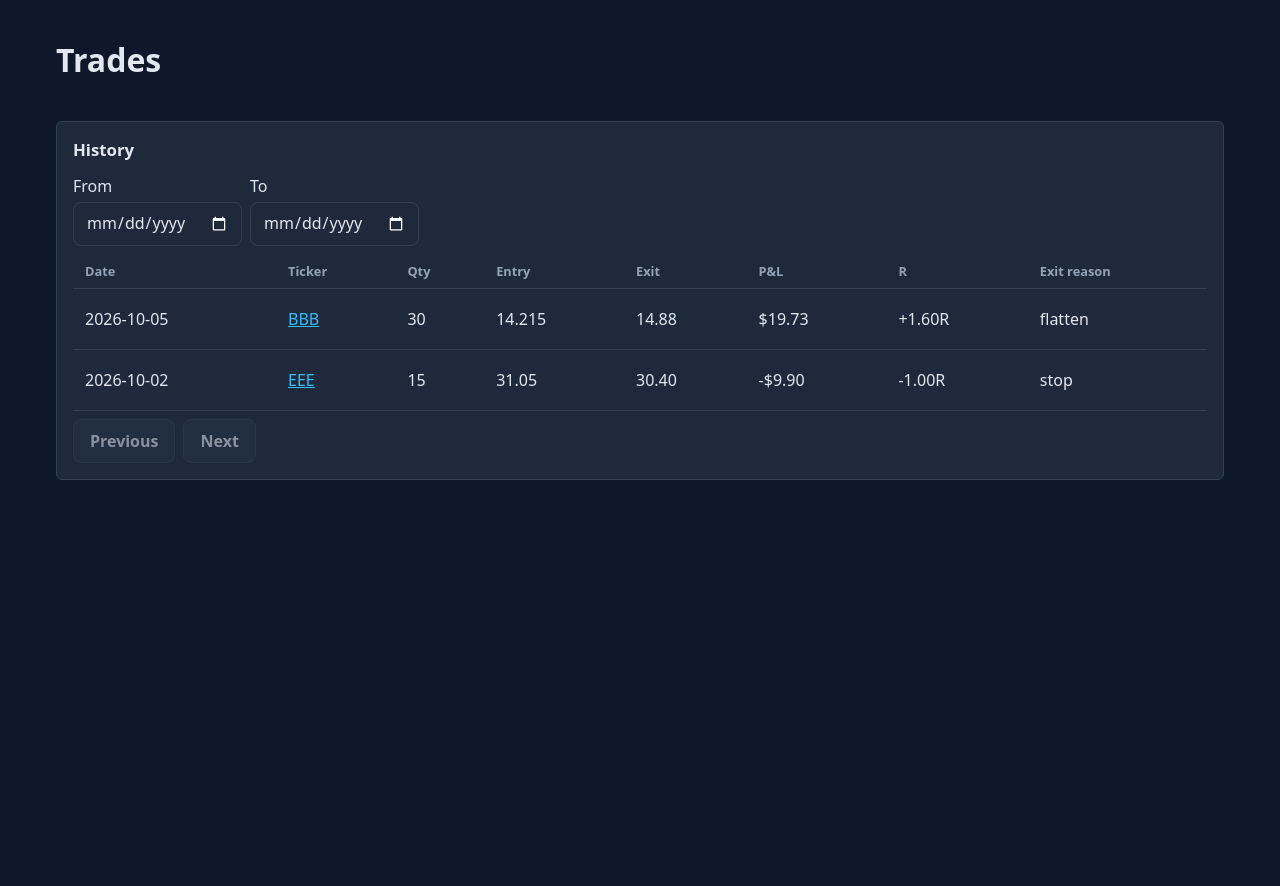
Test: Trades list › opening a row sets ?position=<id> and shows the detail
Click the link "BBB": point(304, 319) x1=288 y1=308 x2=319 y2=330
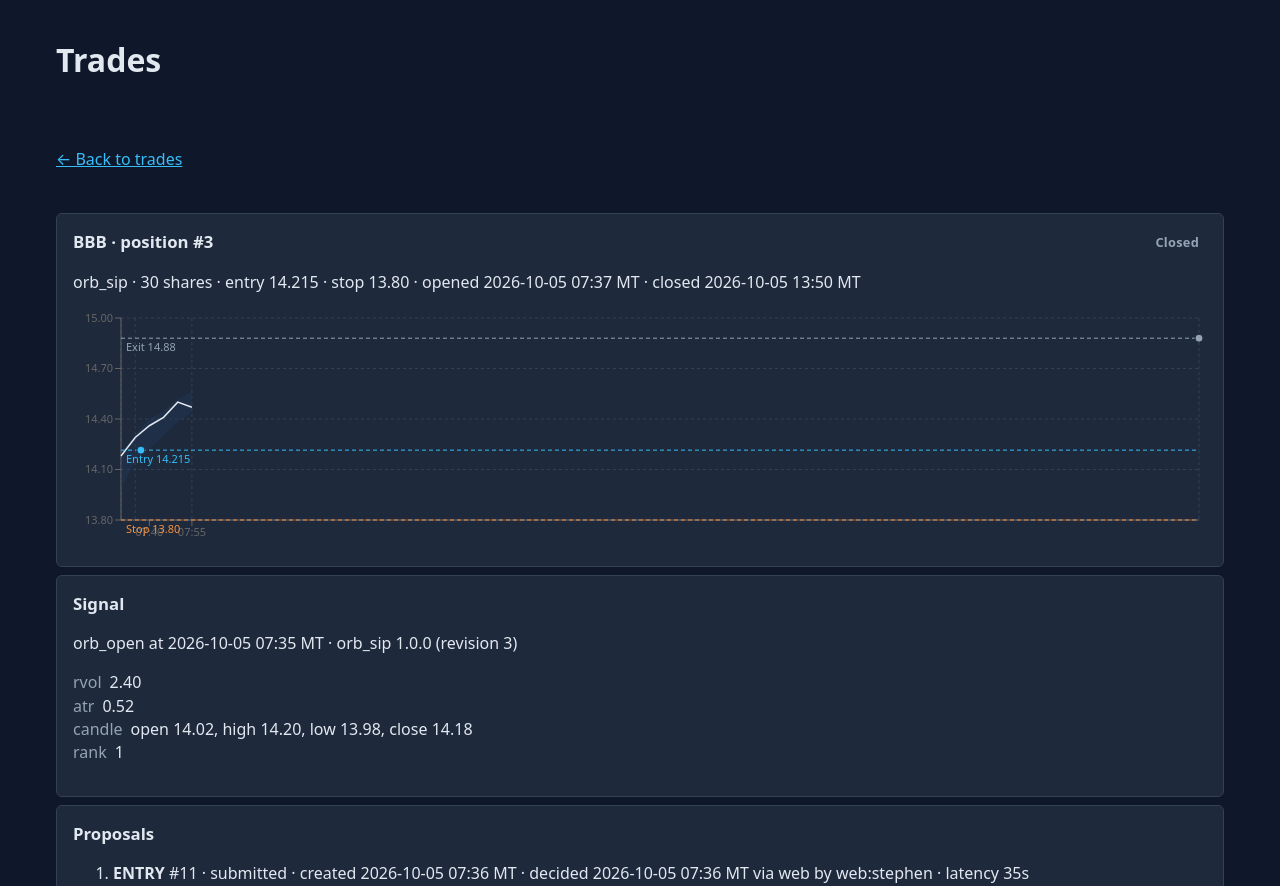
Check: the heading "BBB · position #3" is shown, box x1=73 y1=230 x2=214 y2=255
